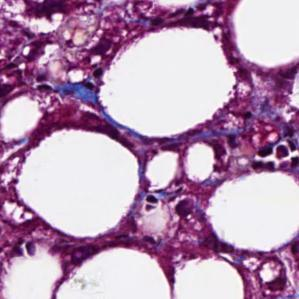inflammation: (28, 71, 106, 108), (253, 138, 299, 173)
